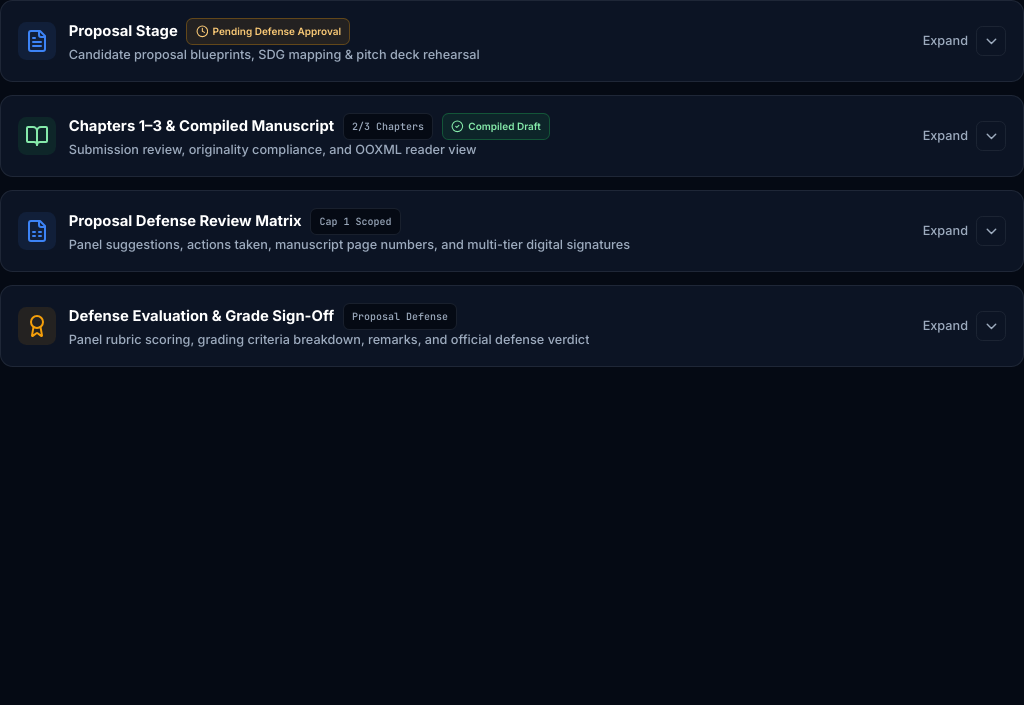
Test: Capstone1CollapsibleSections Component Suite › does not treat the current draft title as approved while its review is pending
Step 1. Click the button with test id "toggle-proposal-stage" → (37,41), box 1,1 -> 1023,81
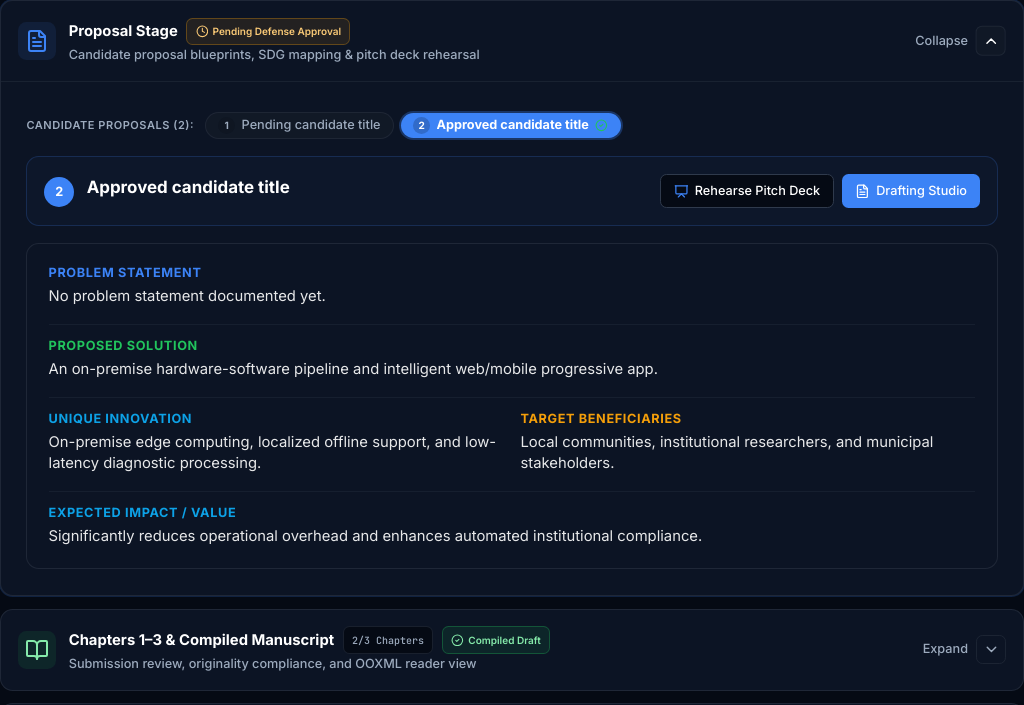
Now the heading "Approved candidate title" is shown, box 87,175 -> 290,201
